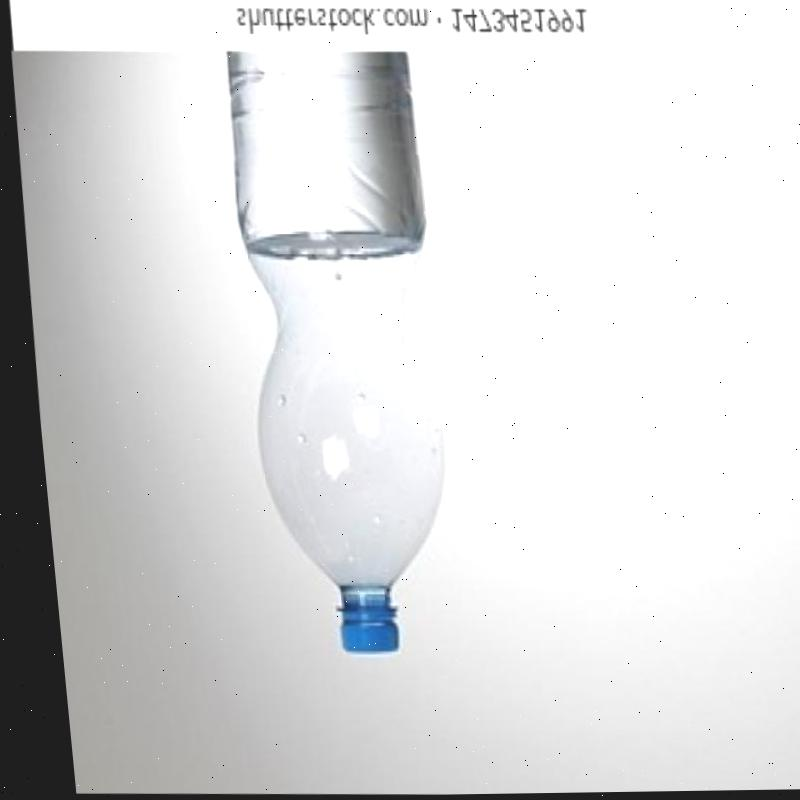botella: (210, 47, 457, 657)
